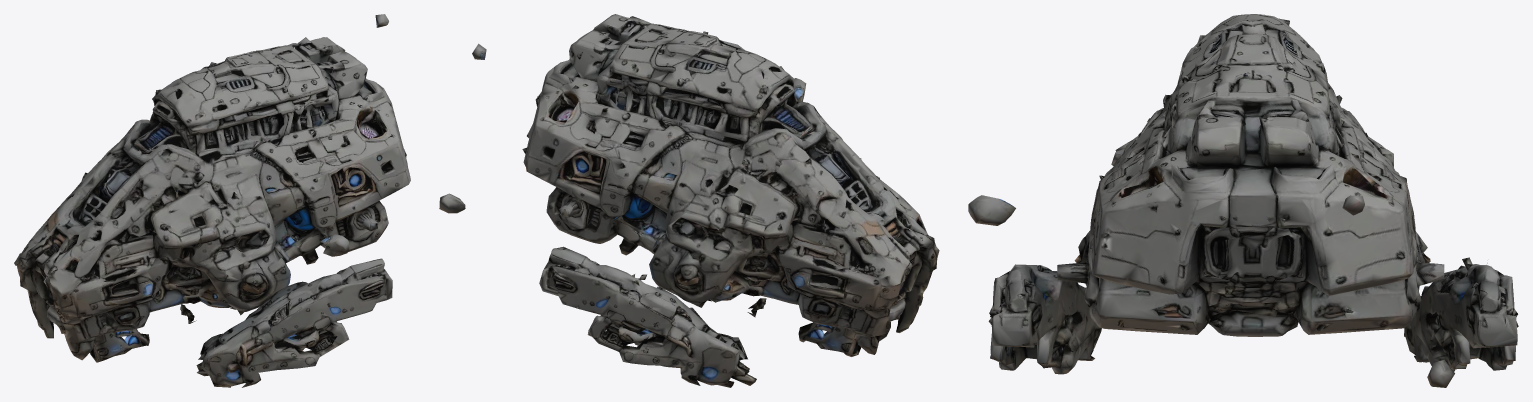
The model's file is enemy_titan.glb.
3 views of the same model, side by side, from view 1: azimuth 30°, elevation 25°; view 2: azimuth 150°, elevation 25°; view 3: azimuth 270°, elevation 25° (orthographic). The views are drawn at different scales.
Parts seen in each view (by area): view 1: tripo_node_2985e2f7-c438-421f-8dd3-4ad3697be5ab; view 2: tripo_node_2985e2f7-c438-421f-8dd3-4ad3697be5ab; view 3: tripo_node_2985e2f7-c438-421f-8dd3-4ad3697be5ab.
Part boxes in pixels (box(x1,y1,x2,y2)): tripo_node_2985e2f7-c438-421f-8dd3-4ad3697be5ab: box(14, 14, 410, 387); tripo_node_2985e2f7-c438-421f-8dd3-4ad3697be5ab: box(439, 14, 939, 387); tripo_node_2985e2f7-c438-421f-8dd3-4ad3697be5ab: box(968, 14, 1518, 387).
Bounding box in the file's own units: 0.9957 × 0.6468 × 0.849.
Materials: 1 (1 with a texture image).
